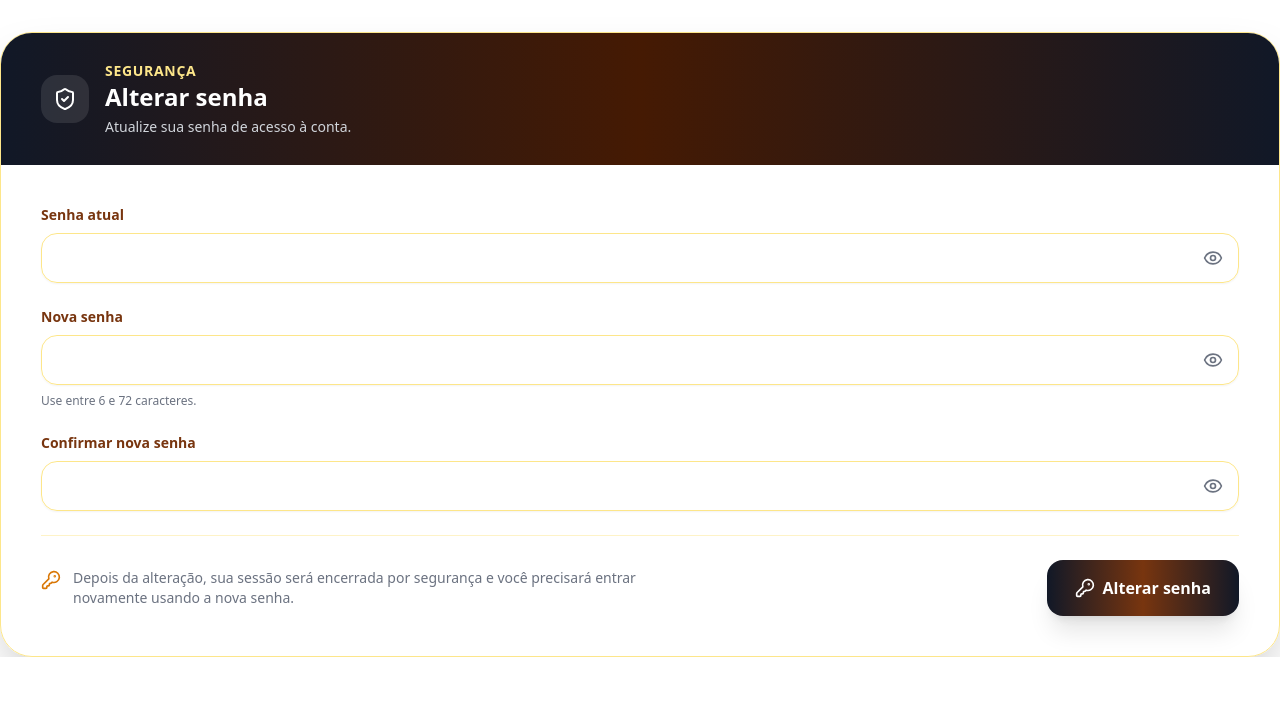
Test: PerfilSecurity › deve exibir erro retornado pela API
The width and height of the screenshot is (1280, 720).
Type "senha-errada" into the password field labelled "Senha atual".
click(640, 258); type("senha-errada")  # box [41,233,1239,283]
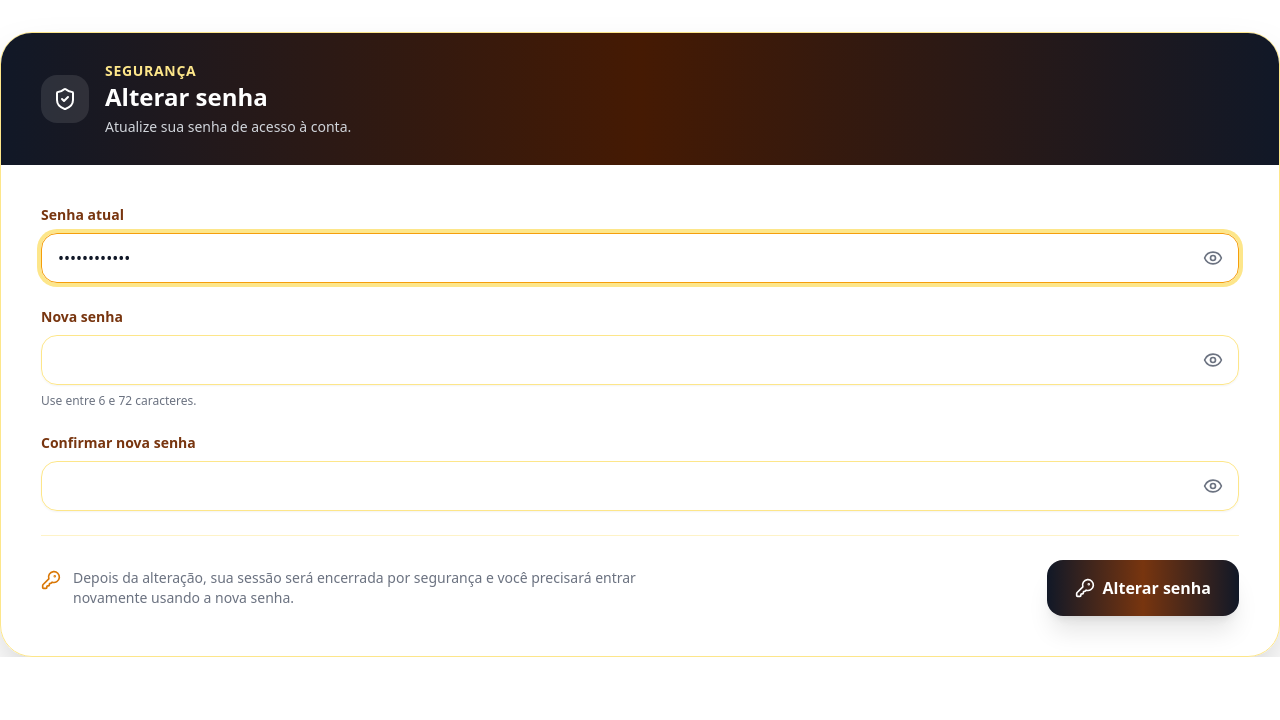
Type "nova-senha-123" into the password field labelled "Nova senha".
click(640, 360); type("nova-senha-123")  # box [41,335,1239,385]
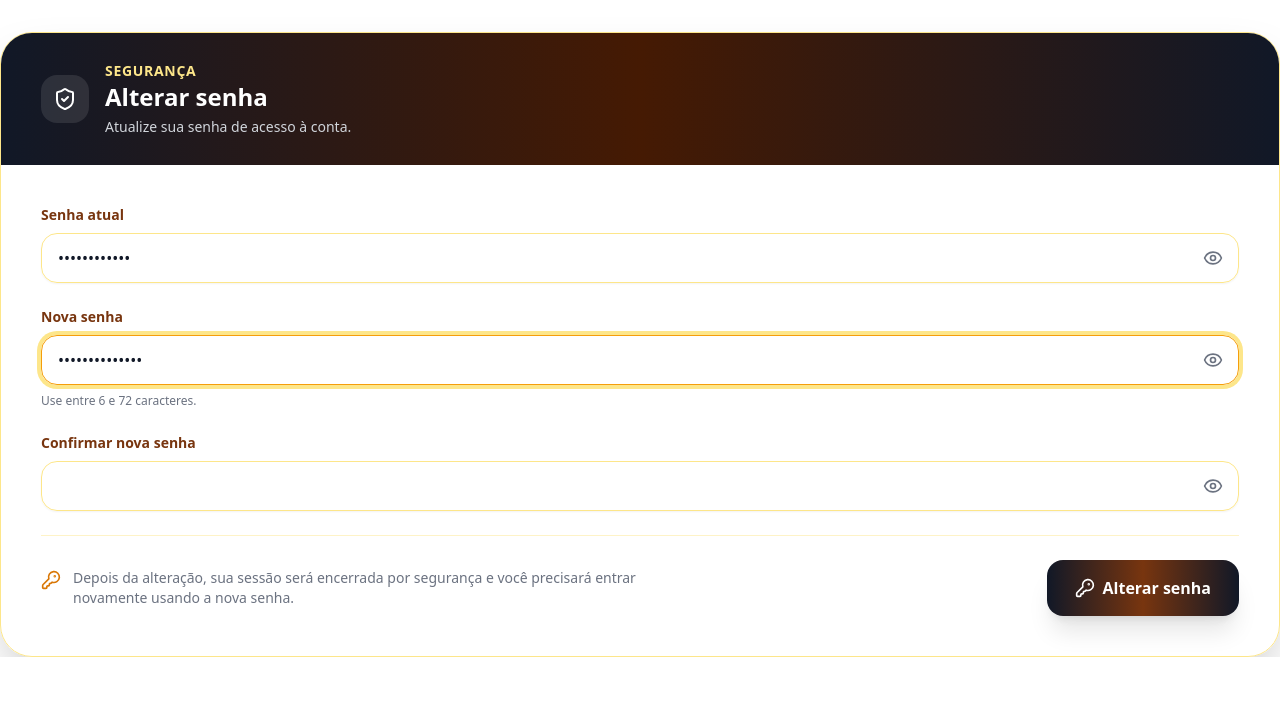
Type "nova-senha-123" into the password field labelled "Confirmar nova senha".
click(640, 486); type("nova-senha-123")  # box [41,461,1239,511]
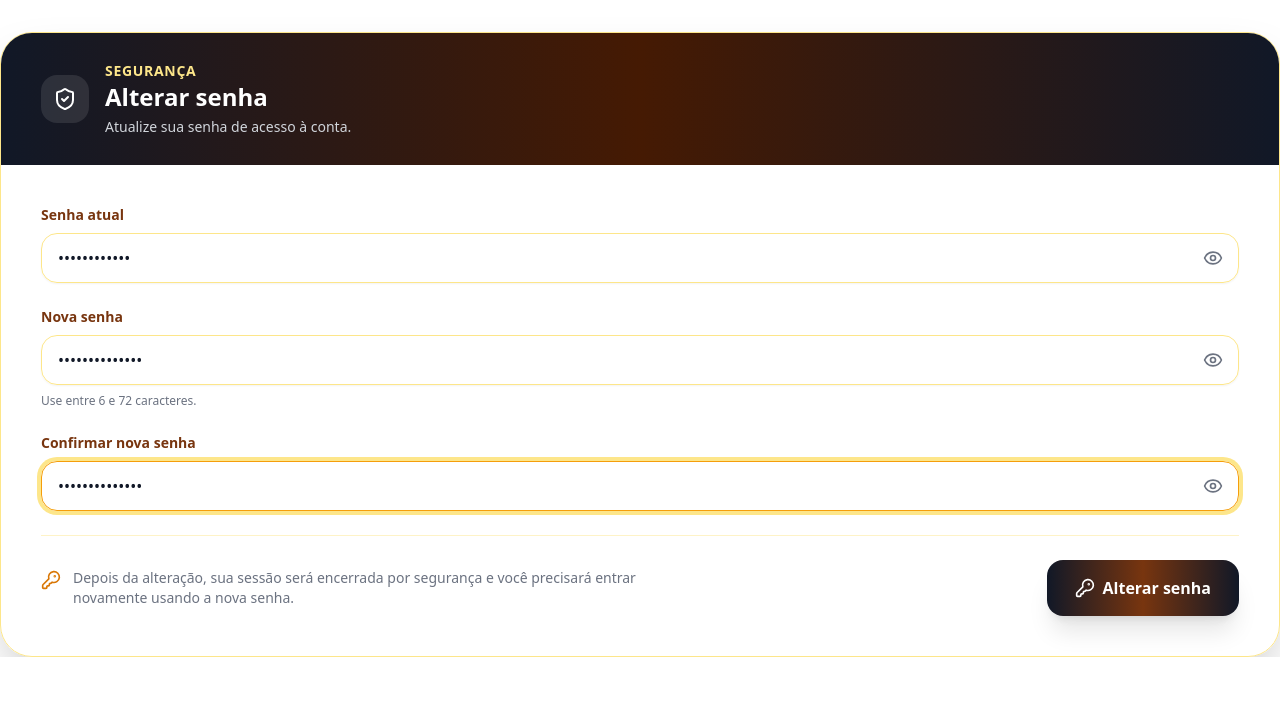
Click the button "Alterar senha".
click(1143, 588)  # box [1046,560,1239,616]
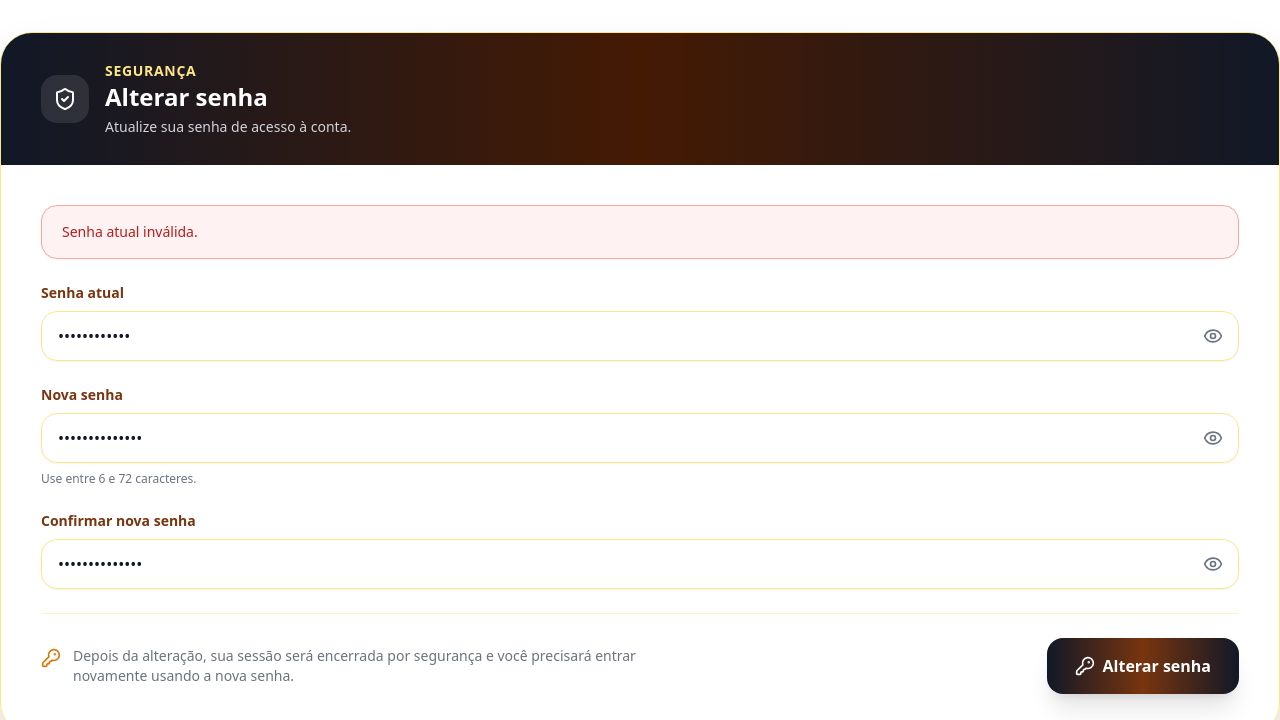
Check: the text "Senha atual inválida." is shown, box [41,205,1239,259]
